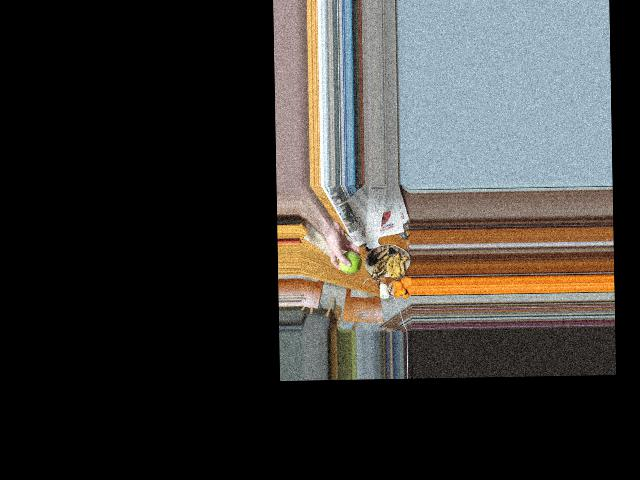apple: (341, 248, 361, 275)
